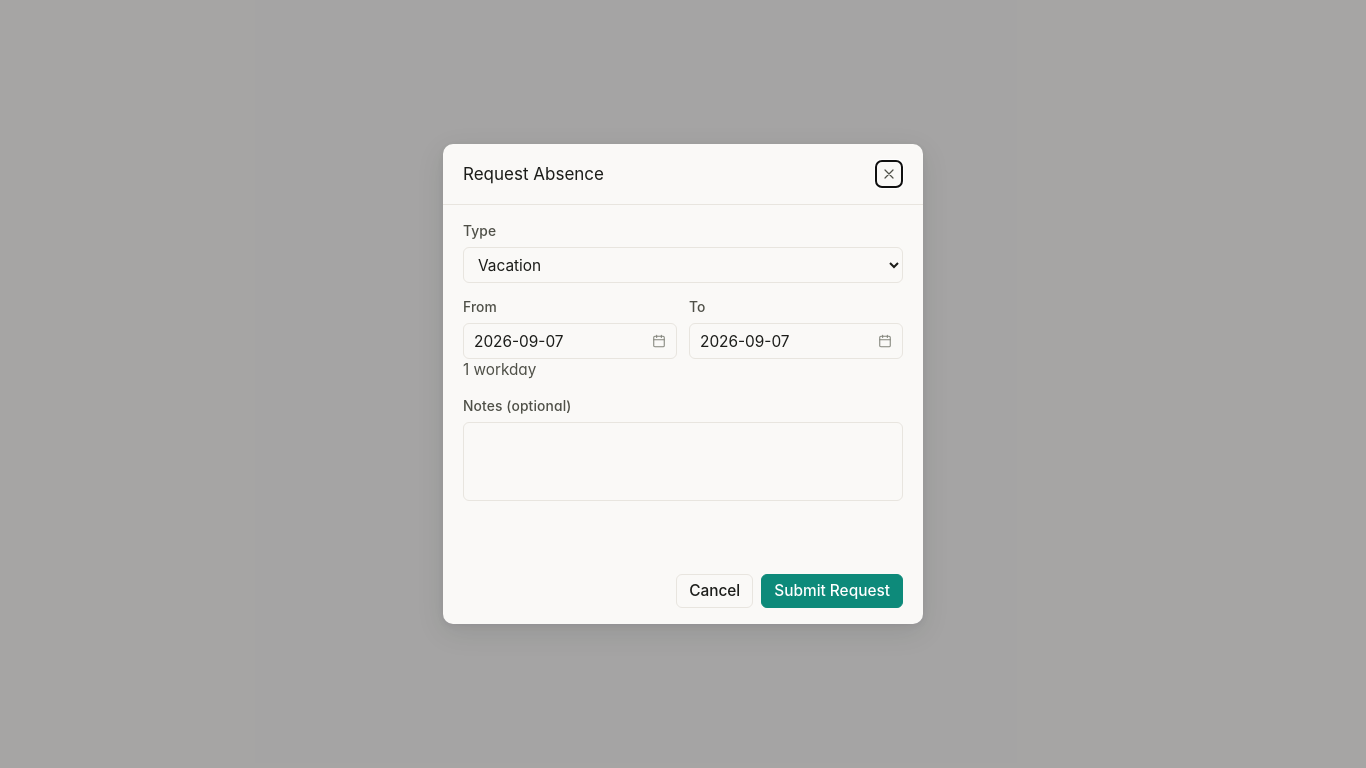
Scenario: AbsenceDialog › shows a user-friendly error for an overlap conflict
The image size is (1366, 768).
Click the button "Submit Request". click: (832, 591)
box: [761,574,903,608]
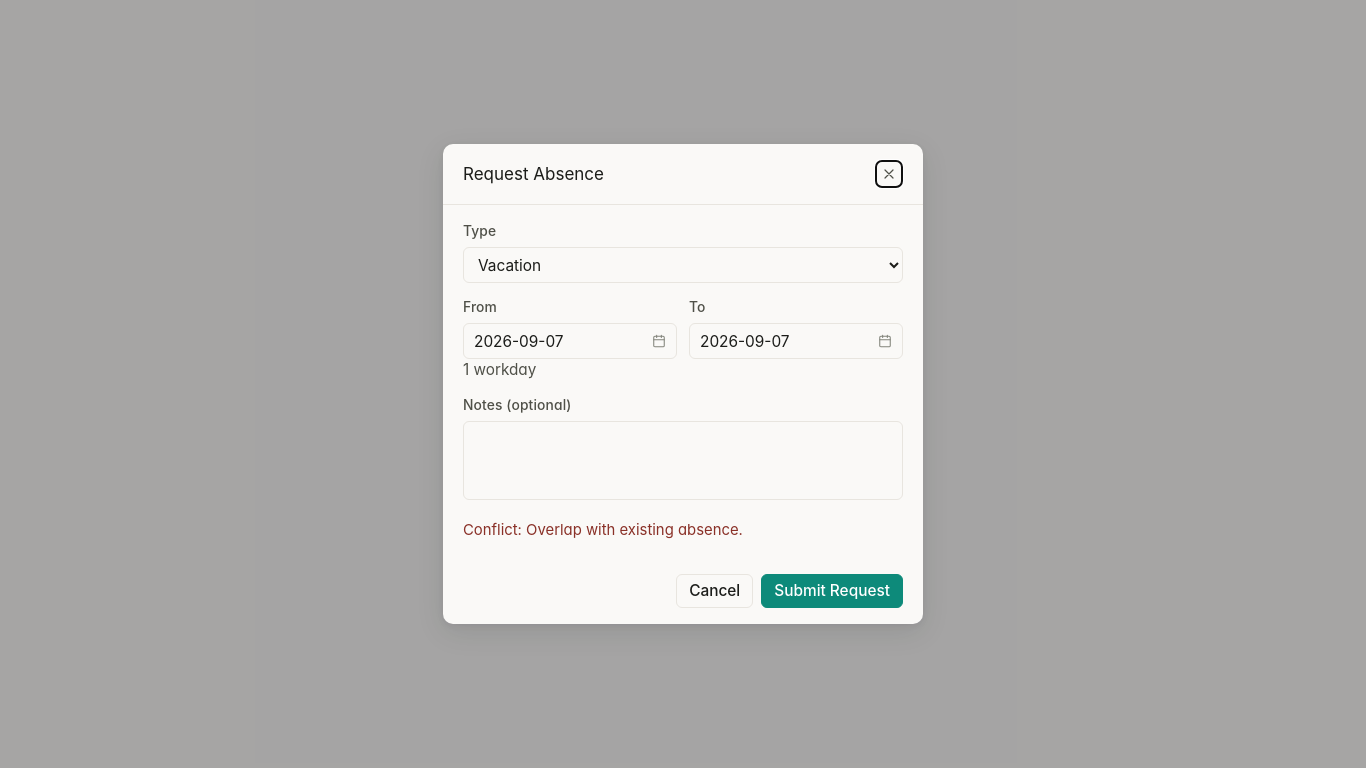
Result: the text with class "error-text" shows "Overlap" at [463,521,743,539]
